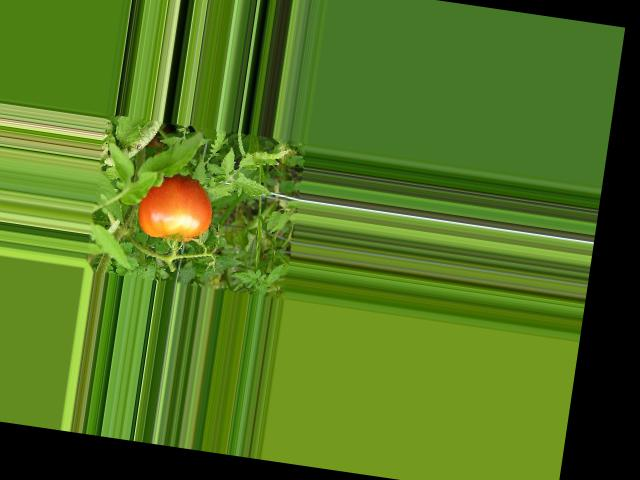tomato: (135, 171, 216, 245)
